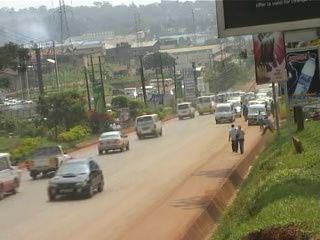Car: (44, 155, 107, 204), (95, 129, 134, 157)
